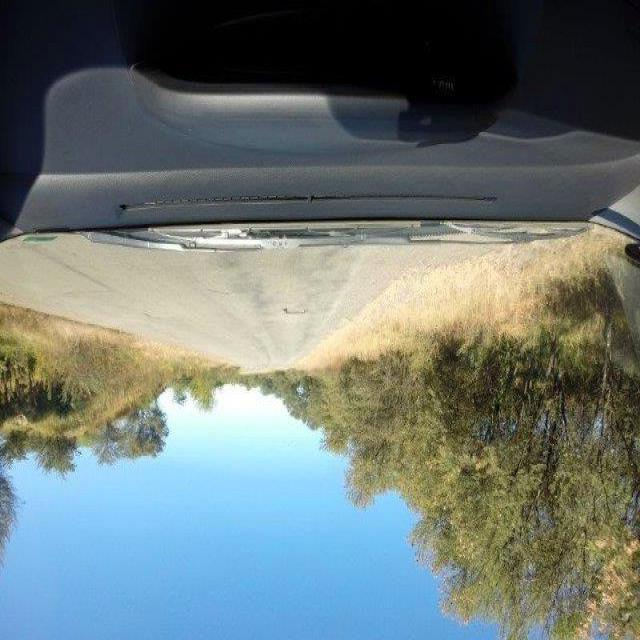lubang: (280, 302, 310, 320), (142, 307, 162, 324)
